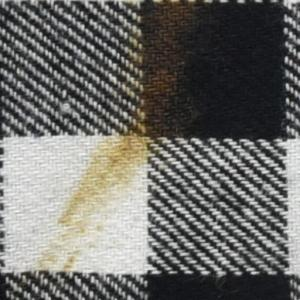Oil Stain: (13, 1, 226, 300)
